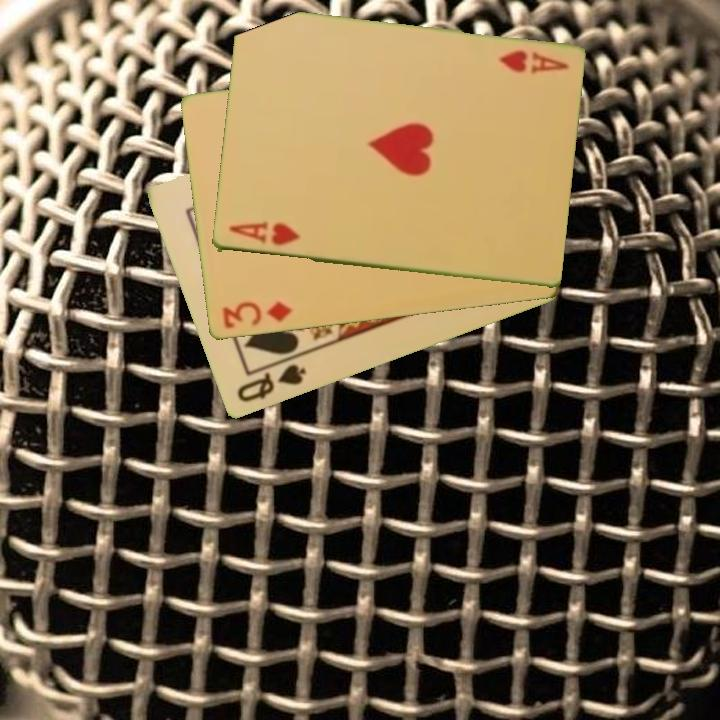3d: (219, 298, 295, 332)
Ah: (225, 218, 303, 249), (494, 47, 571, 76)
Qs: (233, 361, 309, 406)
